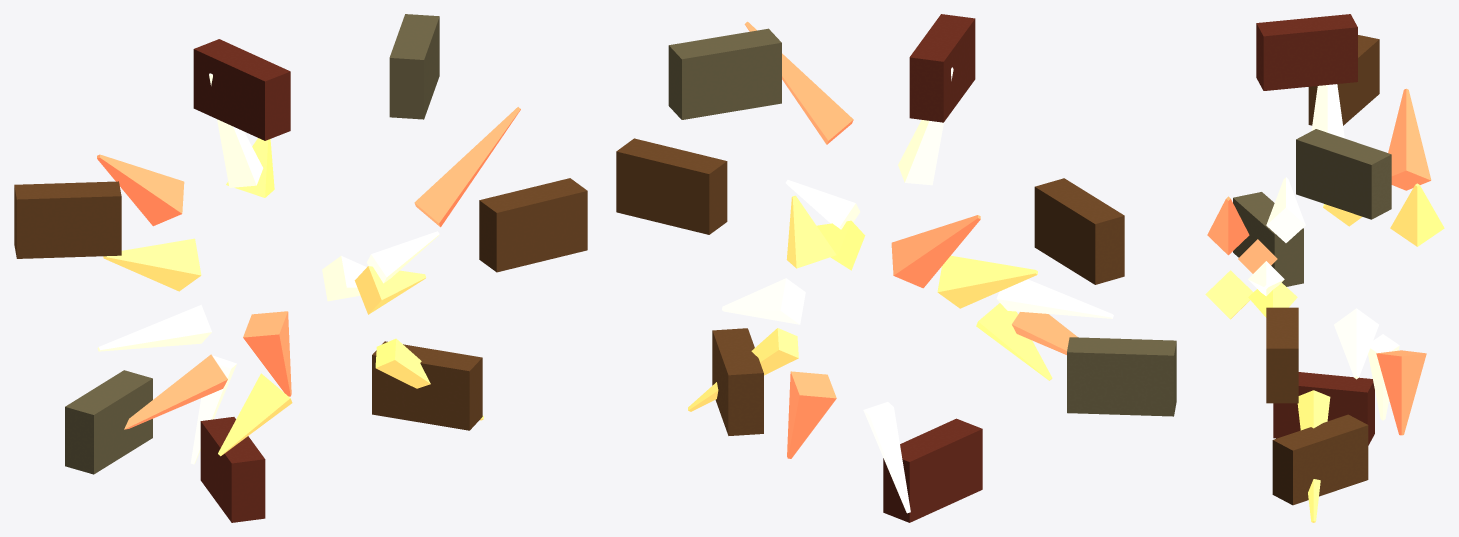
File: frag.glb
3 renders of one model, left to right at view 1: azimuth 30°, elevation 25°; view 2: azimuth 150°, elevation 25°; view 3: azimuth 270°, elevation 25°, orthographic. The views are drawn at different scales.
Parts seen in each view (by area): view 1: Frag Burst dimensional effect.001; view 2: Frag Burst dimensional effect.001; view 3: Frag Burst dimensional effect.001.
Boxes of the visible parts, box(x1,y1,x2,y2) form: Frag Burst dimensional effect.001: box(14, 14, 587, 522); Frag Burst dimensional effect.001: box(616, 14, 1176, 522); Frag Burst dimensional effect.001: box(1205, 14, 1444, 522).
Size of the model in its own units: 1.39 by 1.12 by 0.5943.
Materials: 4 (1 with a texture image).
